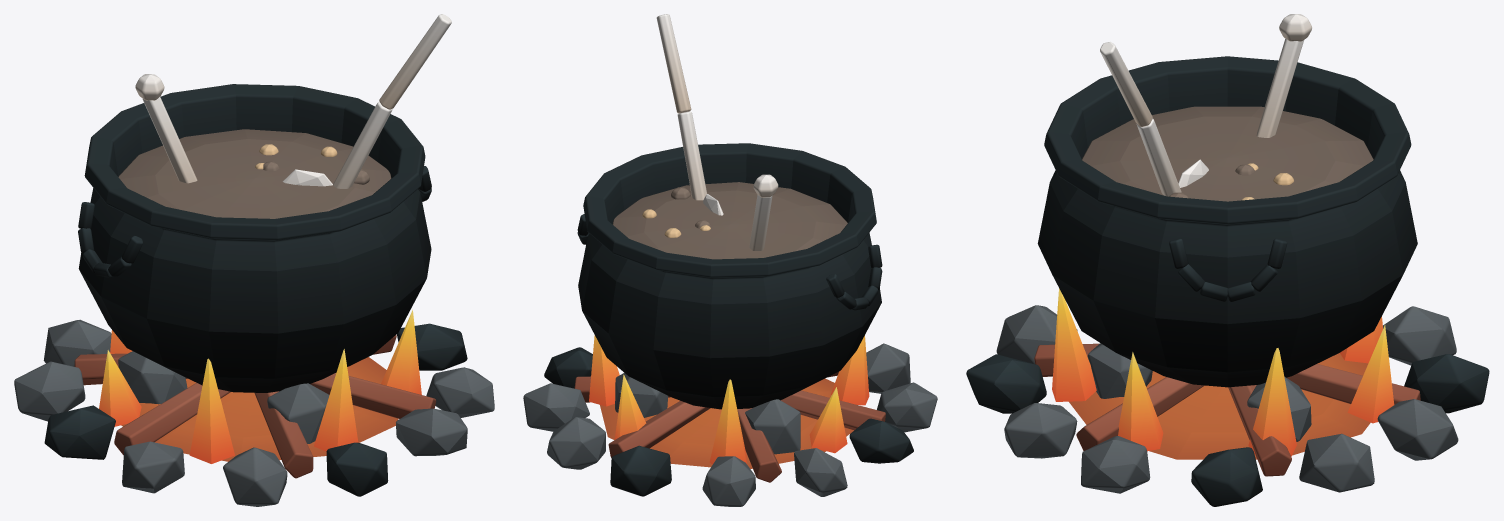
File: murk_cauldron.glb
The picture shows the model from 3 angles, left to right: view 1: azimuth 30°, elevation 25°; view 2: azimuth 150°, elevation 25°; view 3: azimuth 270°, elevation 25°; orthographic projection. The views are drawn at different scales.
Parts seen in each view (by area): view 1: murk_cauldron; view 2: murk_cauldron; view 3: murk_cauldron.
Boxes of the visible parts, x1=… form: murk_cauldron: x1=14, y1=14, x2=494, y2=506; murk_cauldron: x1=523, y1=14, x2=937, y2=506; murk_cauldron: x1=966, y1=14, x2=1489, y2=506.
Bounding box in the file's own units: 3.39 × 3.24 × 3.47.
Materials: 3 (3 with a texture image).
